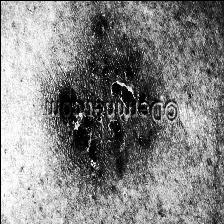Toxin: (42, 122, 160, 190), (45, 47, 153, 97)
